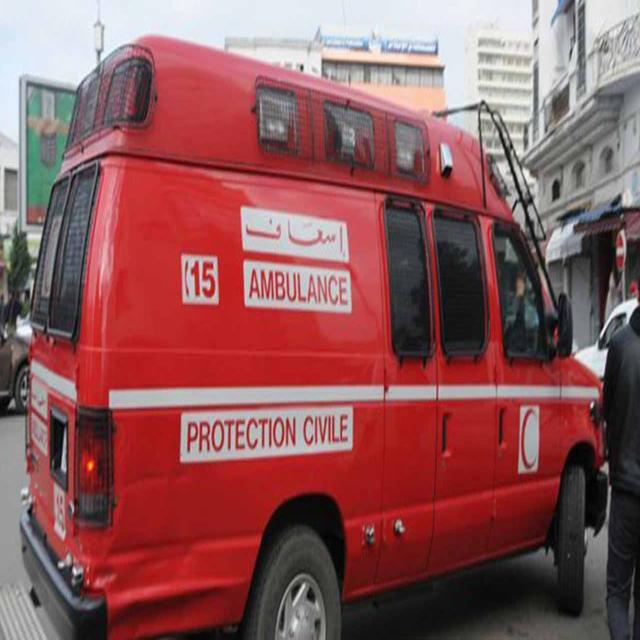ambulance: (28, 44, 601, 626)
